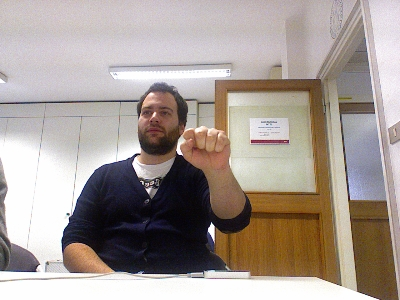石头: (179, 125, 230, 170)
